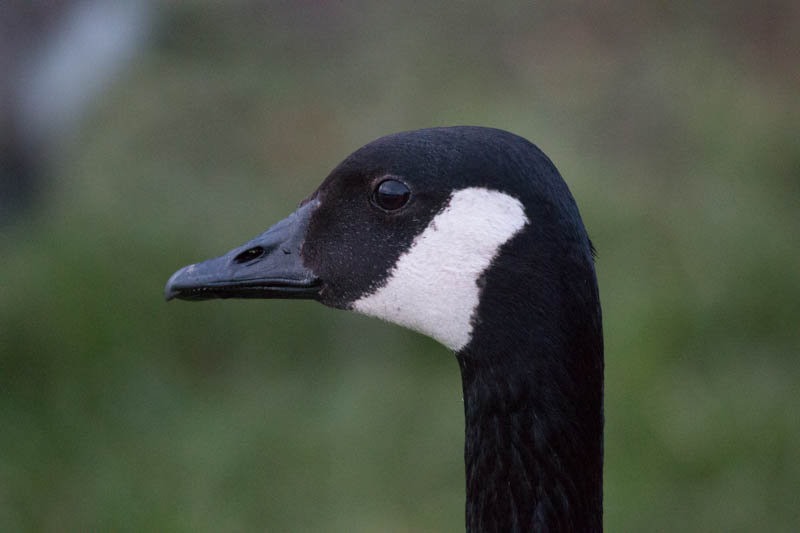goose-head: (164, 125, 602, 356)
